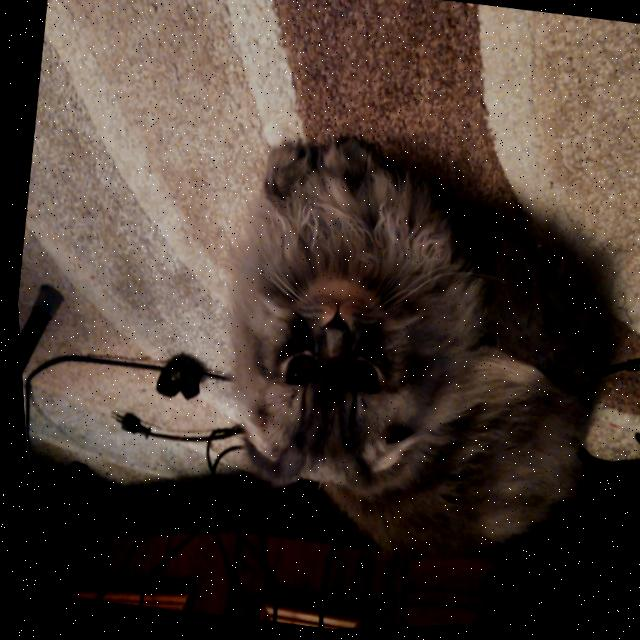Scottish Fold: (174, 109, 640, 601)
